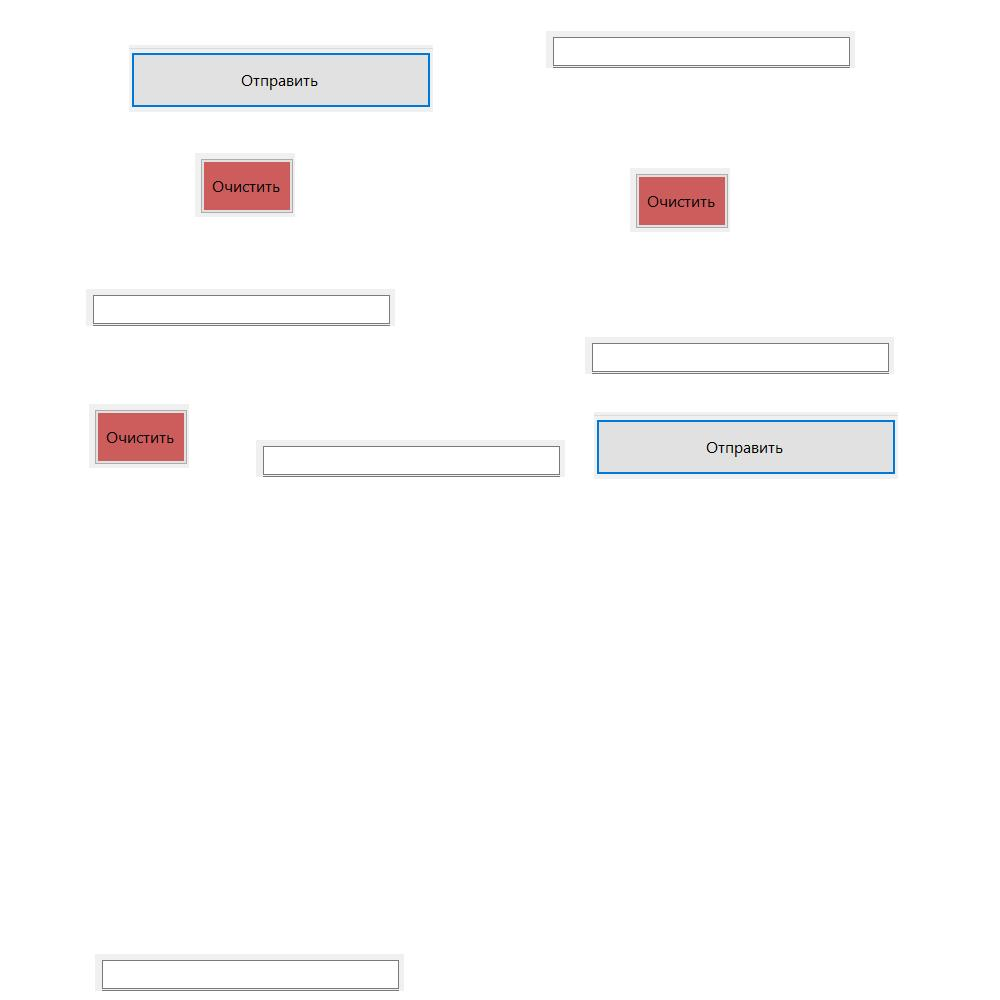Button: (129, 45, 433, 112), (594, 412, 898, 479), (630, 168, 730, 232), (195, 153, 295, 217), (89, 404, 189, 468)
EditText-: (95, 954, 404, 991), (256, 440, 565, 477), (585, 337, 894, 374), (546, 31, 855, 68), (86, 289, 395, 326)
